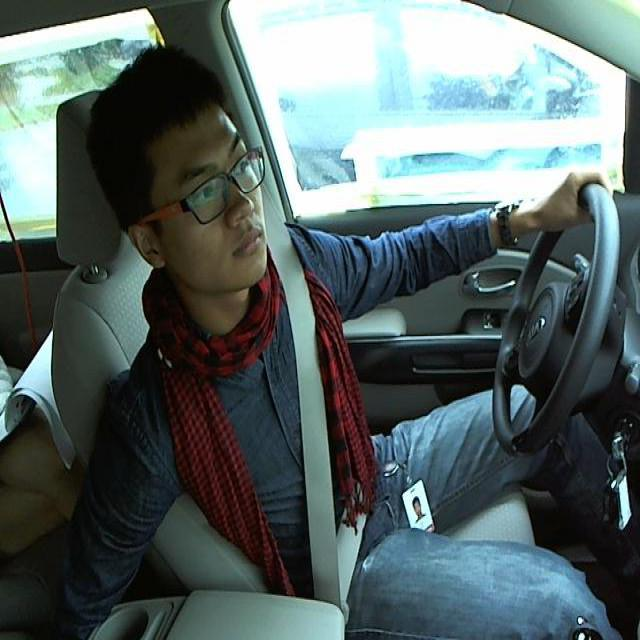seatbelt: (256, 176, 393, 637)
